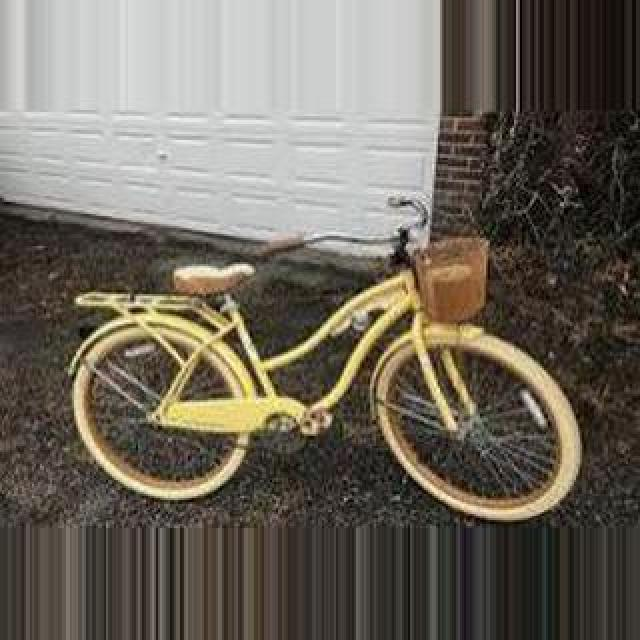Person: (62, 214, 580, 512)
